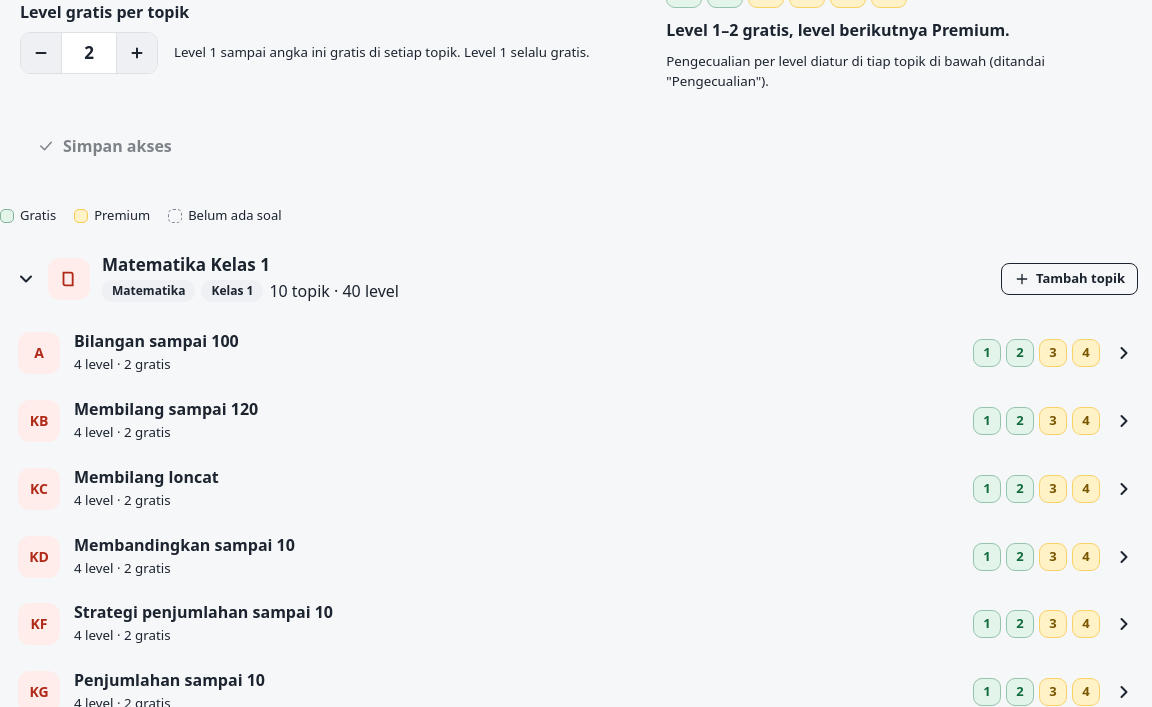
Test: Silabus Belajar: pop-up ya atau tidak di dialog soal (bukan kotak bawaan peramban) › menutup dialog tanpa perubahan tidak bertanya apa pun
This screenshot has width=1152, height=707.
(page scrolled)
Click the button with aria-label "Ubah topik Bilangan sampai 100".
click(39, 353)  # box [0,319,1151,387]
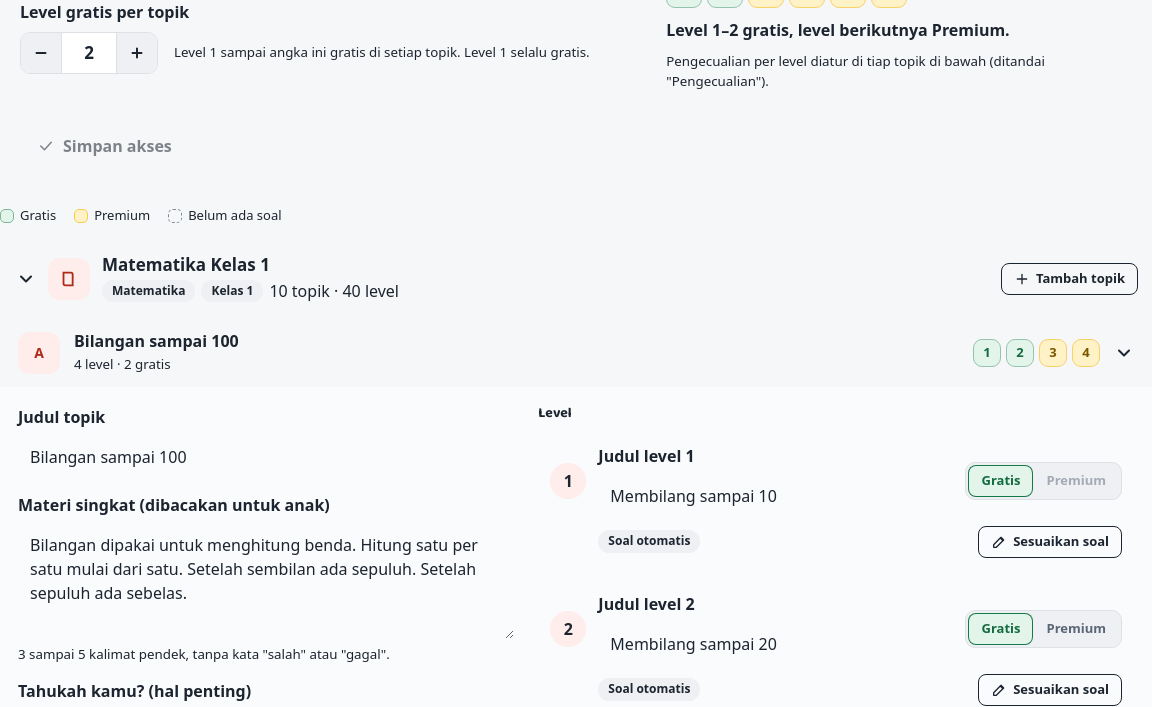
Click the button with aria-label "Sesuaikan soal level 1".
click(1050, 542)  # box [978,526,1122,558]
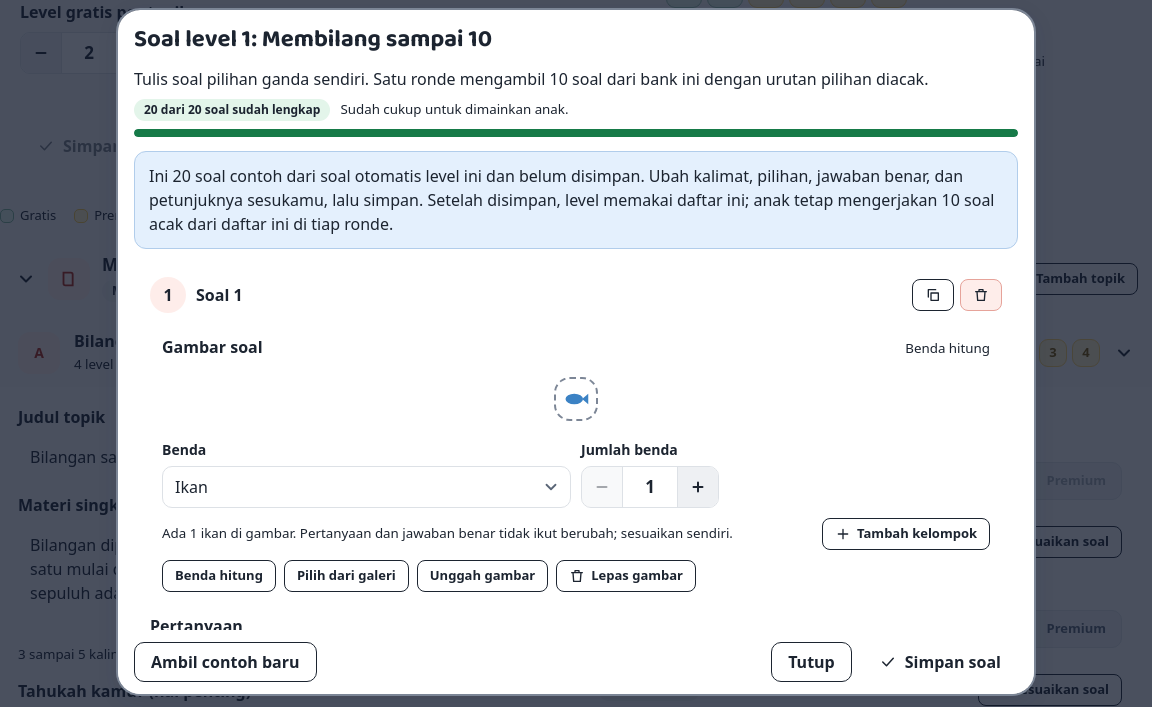
Result: the text "20 dari 20 soal sudah lengkap" is shown at [134,99,330,121]
Click the button "Tutup".
click(812, 662)  # box [771,642,852,682]
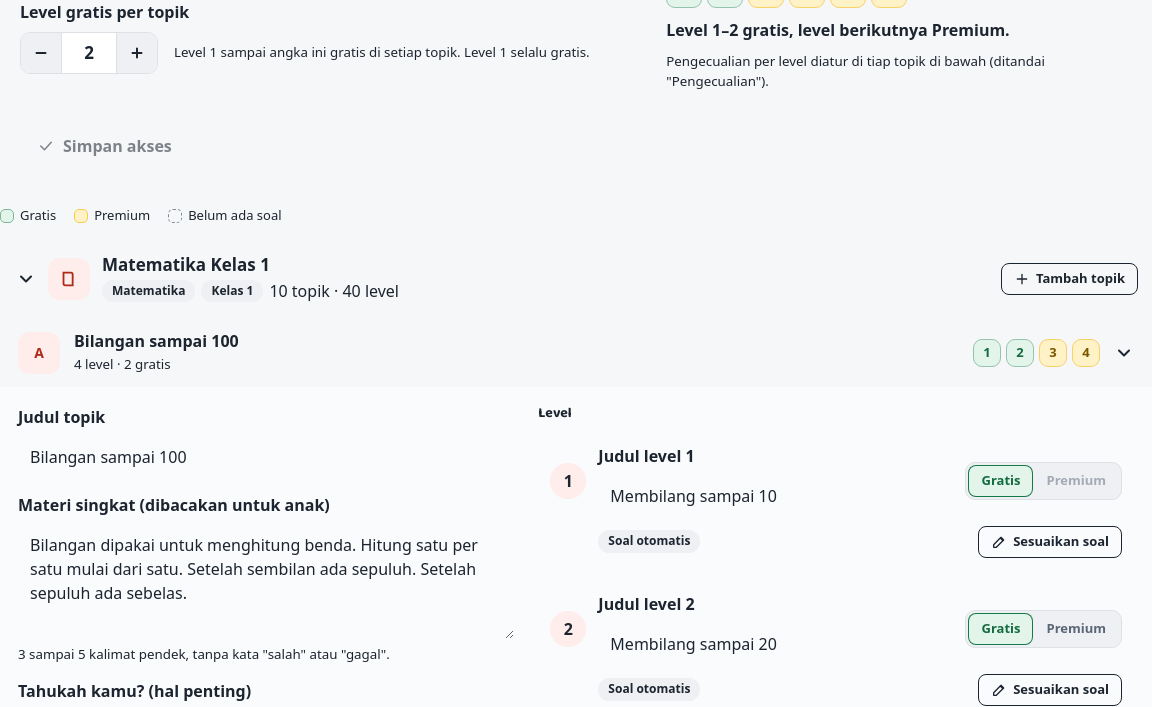
Result: the dialog is gone
